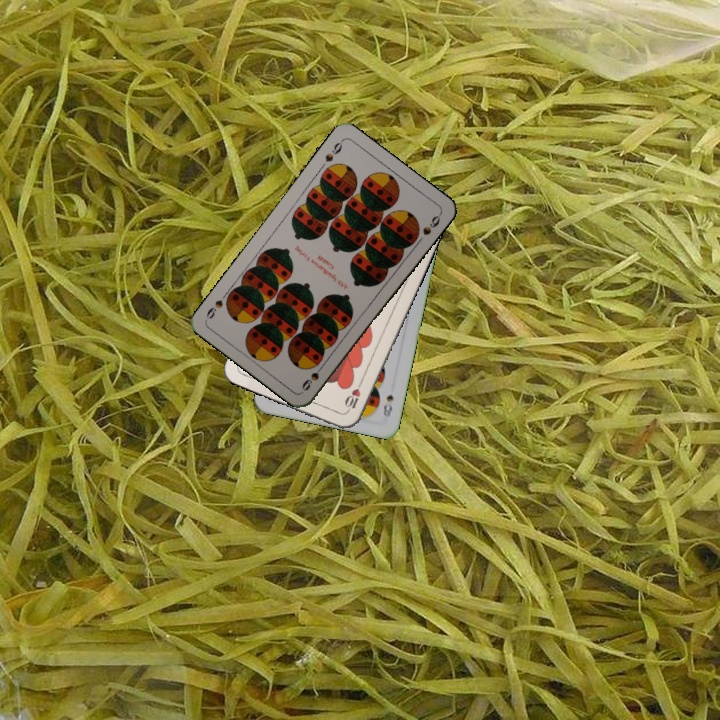H10: (341, 377, 365, 415)
S8: (379, 391, 396, 420)
S9: (297, 359, 328, 393), (321, 136, 346, 165)
